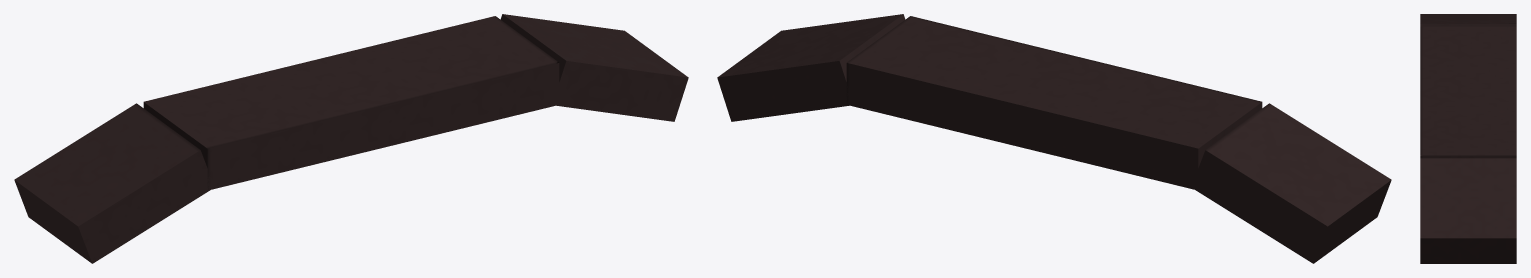
File: asphalt_cover.obj
3 renders of one model, left to right at view 1: azimuth 30°, elevation 25°; view 2: azimuth 150°, elevation 25°; view 3: azimuth 270°, elevation 25°, orthographic. The views are drawn at different scales.
Parts seen in each view (by area): view 1: cube; view 2: cube; view 3: cube.
Boxes of the visible parts, box(x1,y1,x2,y2) form: cube: box(14, 14, 688, 263); cube: box(717, 14, 1391, 263); cube: box(1420, 14, 1516, 263).
Size of the model in its own units: 2.75 by 0.3771 by 0.5.
1 material, 1 textured.
